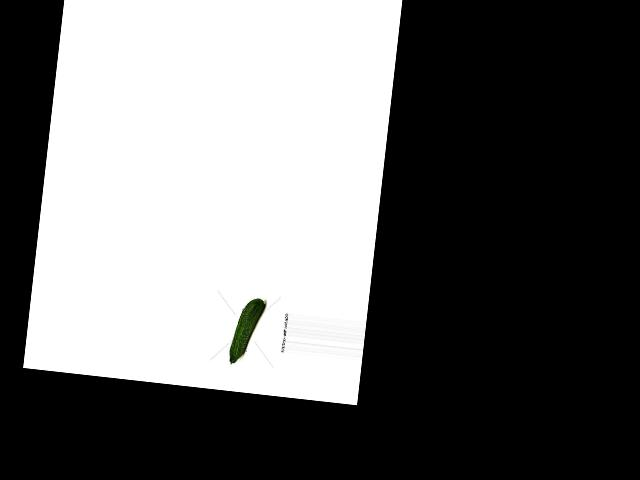cucumber: (228, 296, 265, 367)
